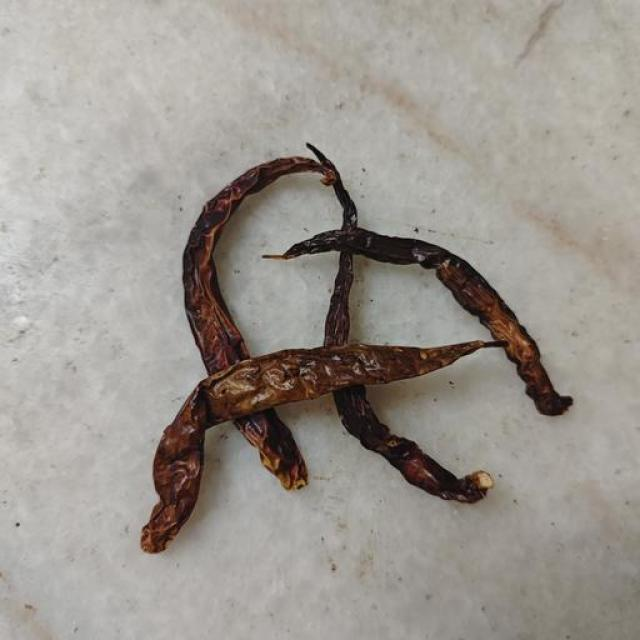organic: (142, 145, 572, 552), (142, 342, 503, 552), (268, 228, 572, 414), (183, 157, 333, 373), (333, 387, 489, 502)
